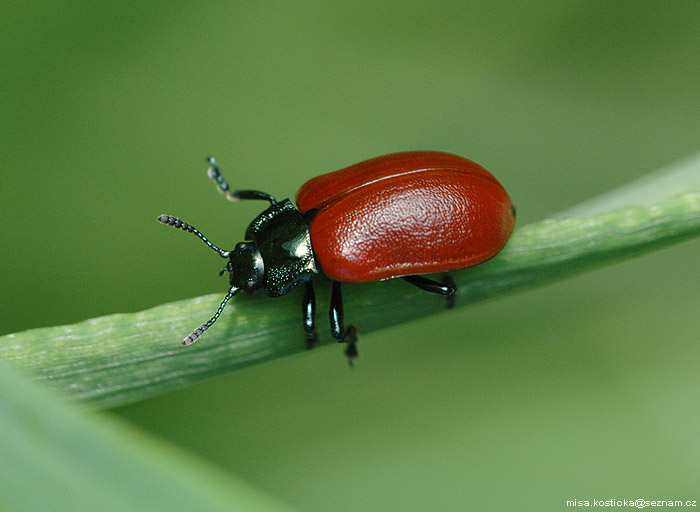Chrysomela_populi: (156, 128, 522, 375)
